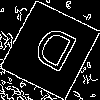D: (25, 24, 80, 81)
